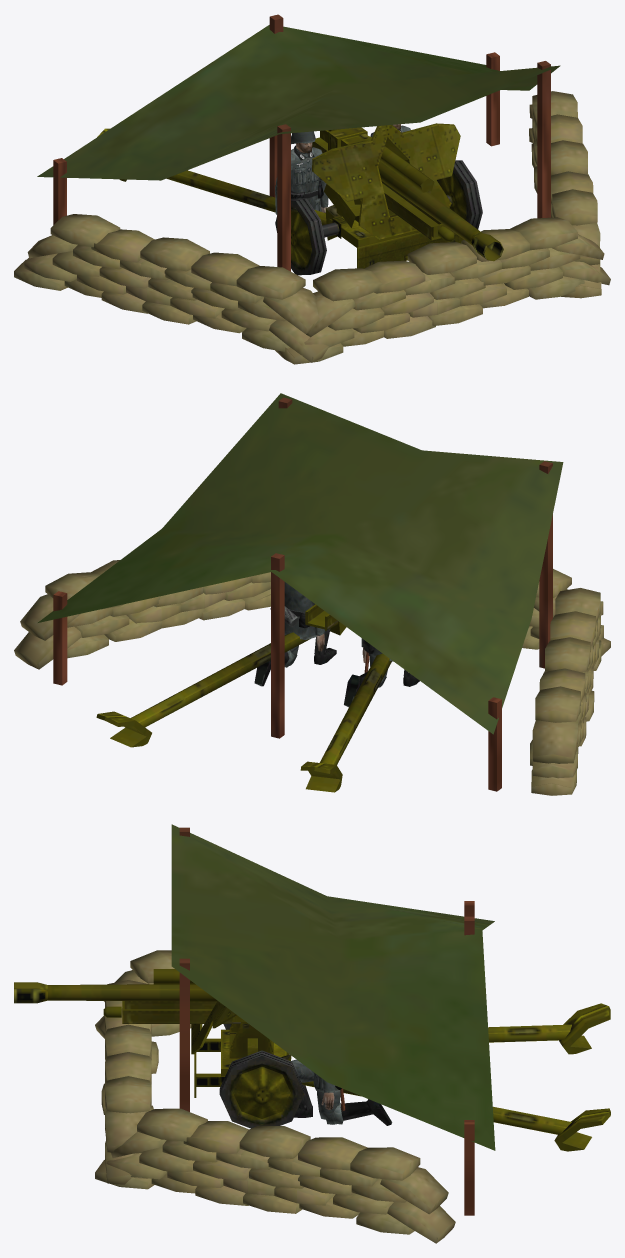
The model's file is GERleFH18_Stationary.dae.
3 renders of one model, top to bottom at view 1: azimuth 30°, elevation 25°; view 2: azimuth 150°, elevation 25°; view 3: azimuth 270°, elevation 25°, orthographic. The views are drawn at different scales.
Parts seen in each view (by area): view 1: base, carriage, barrel, sleeve, torso1; view 2: base, carriage, torso2, sleeve; view 3: base, carriage, barrel, sleeve, lleg2.
Part boxes in pixels (<box>): base: <box>14,14,610,364</box>; carriage: <box>97,123,482,275</box>; barrel: <box>328,127,503,261</box>; sleeve: <box>312,130,454,242</box>; torso1: <box>291,145,323,211</box>; base: <box>14,393,610,795</box>; carriage: <box>96,621,391,792</box>; torso2: <box>270,582,316,639</box>; sleeve: <box>305,604,338,629</box>; base: <box>95,824,495,1243</box>; carriage: <box>191,1001,610,1151</box>; barrel: <box>14,982,217,1003</box>; sleeve: <box>103,969,240,1023</box>; lleg2: <box>325,1101,372,1124</box>.
Bounding box in the file's own units: 51.33 × 46.12 × 18.15.
